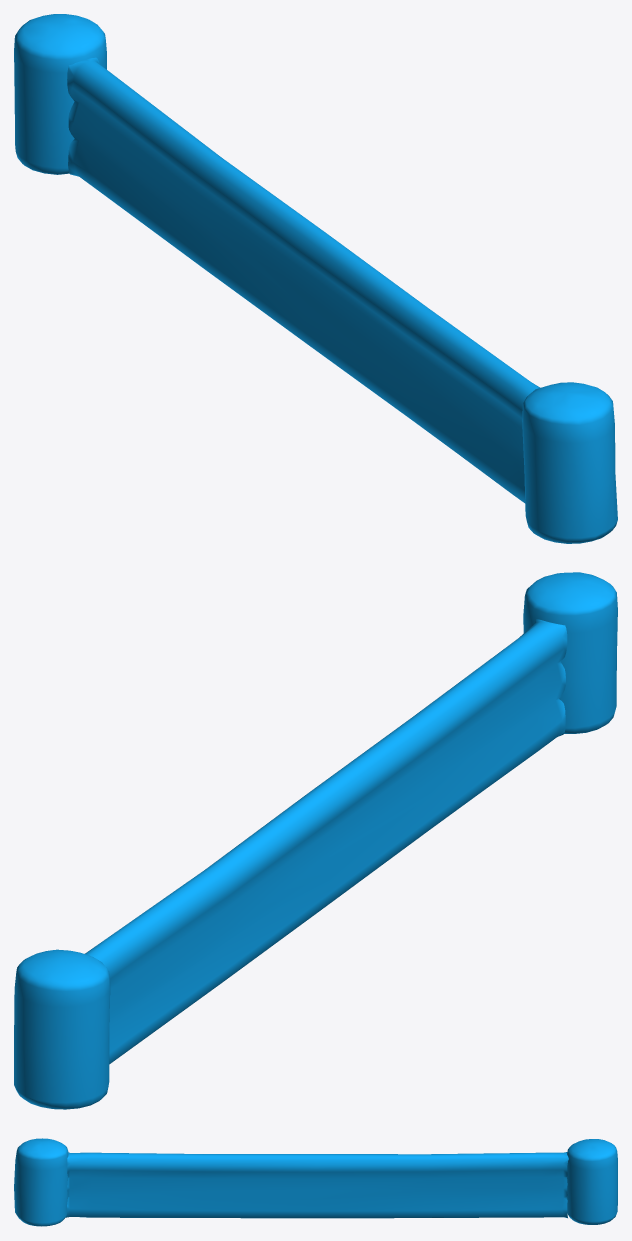
The model's file is ScaleTestWall.fbx.
3 views of the same model, one above another, from view 1: azimuth 30°, elevation 25°; view 2: azimuth 150°, elevation 25°; view 3: azimuth 270°, elevation 25° (orthographic). The views are drawn at different scales.
Visible parts, largest first — view 1: bouncyWalls_32_0; view 2: bouncyWalls_32_0; view 3: bouncyWalls_32_0.
Boxes of the visible parts, <box> form: bouncyWalls_32_0: <box>14,14,617,543</box>; bouncyWalls_32_0: <box>14,572,617,1109</box>; bouncyWalls_32_0: <box>14,1138,617,1226</box>.
Size of the model in its own units: 7.57 by 11.45 by 84.94.
